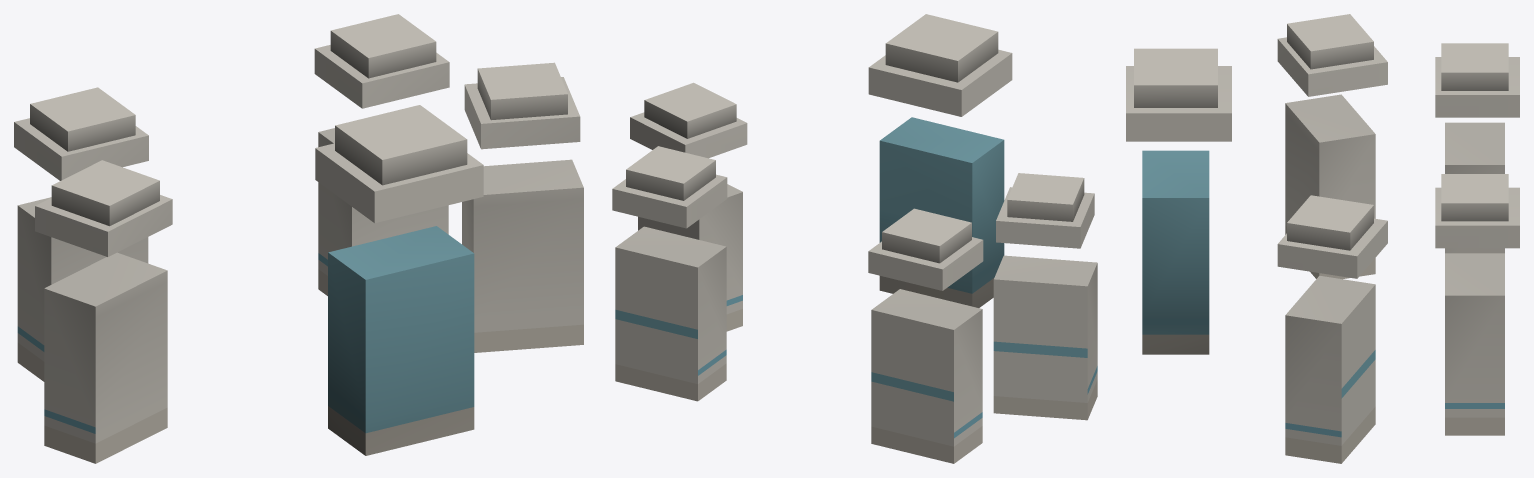
The model's file is lather-linen-lod3.glb.
3 views of the same model, side by side, from view 1: azimuth 30°, elevation 25°; view 2: azimuth 150°, elevation 25°; view 3: azimuth 270°, elevation 25° (orthographic). The views are drawn at different scales.
Parts seen in each view (by area): view 1: cap_torso, att3_torso, att2_torso, cap_hat, att3_hat, att0_hat, att1_hat, att2_hat, att1_torso, att0_torso; view 2: att0_torso, att1_torso, att3_torso, cap_torso, cap_hat, att0_hat, att1_hat, att2_hat, att3_hat, att2_torso; view 3: att2_torso, cap_torso, att0_torso, cap_hat, att3_torso, att2_hat, att3_hat, att0_hat, att1_hat, att1_torso.
Part boxes in pixels (x1,y1,x2,y2): cap_torso: [328, 226, 474, 455]; att3_torso: [44, 252, 167, 463]; att2_torso: [462, 159, 583, 352]; cap_hat: [315, 105, 483, 223]; att3_hat: [35, 160, 172, 256]; att0_hat: [314, 14, 449, 108]; att1_hat: [14, 87, 148, 180]; att2_hat: [464, 62, 580, 149]; att1_torso: [17, 197, 148, 381]; att0_torso: [318, 128, 448, 295]; att0_torso: [615, 226, 726, 401]; att1_torso: [871, 289, 982, 463]; att3_torso: [993, 255, 1097, 420]; cap_torso: [879, 117, 1004, 307]; cap_hat: [868, 14, 1012, 116]; att0_hat: [612, 146, 727, 228]; att1_hat: [868, 208, 983, 290]; att2_hat: [630, 82, 747, 158]; att3_hat: [996, 173, 1094, 248]; att2_torso: [638, 184, 742, 331]; att2_torso: [1285, 275, 1375, 463]; cap_torso: [1142, 150, 1209, 354]; att0_torso: [1445, 253, 1504, 435]; cap_hat: [1126, 48, 1231, 141]; att3_torso: [1285, 94, 1375, 279]; att2_hat: [1277, 195, 1387, 278]; att3_hat: [1277, 14, 1387, 96]; att0_hat: [1435, 174, 1519, 248]; att1_hat: [1435, 43, 1519, 117]; att1_torso: [1445, 122, 1504, 253].
Bounding box in the file's own units: 2.18 × 1.25 × 1.58.
